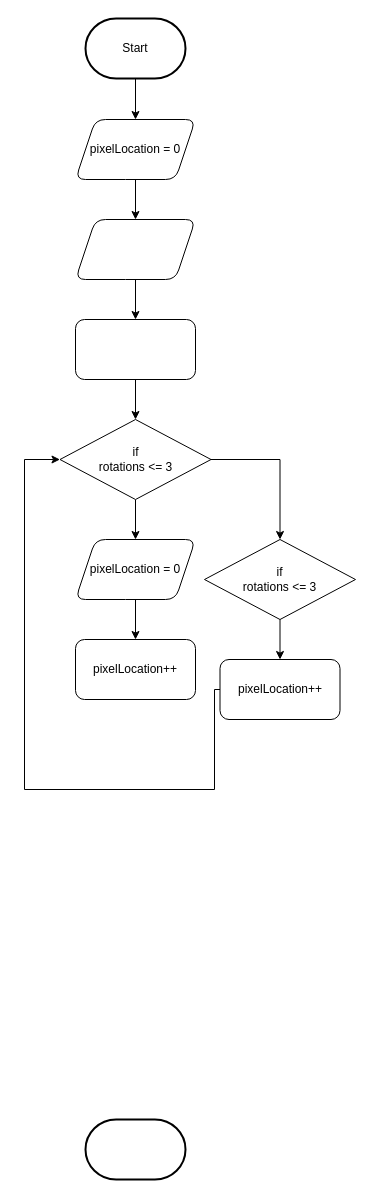
Some shapes in this 373 by 1197 pixel diagram are drawn without their labels. The shapes that lost their labels are listed below. From the top down, each one's centre as x and y in pixels, then its label:
At pixel 135 249: "rotations = 0".
At pixel 135 349: "onButtonPressed (A)".
At pixel 135 1149: "Stop".
